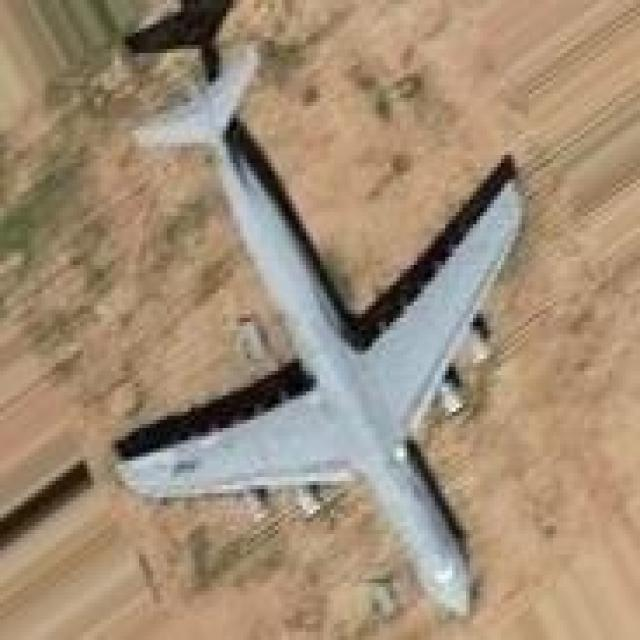C-5_TopDown: (104, 0, 529, 620)
